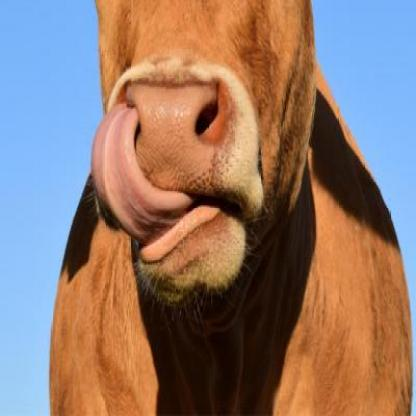lower: (180, 256, 211, 280)
mouth: (99, 75, 263, 290)
upper: (160, 120, 184, 151)
